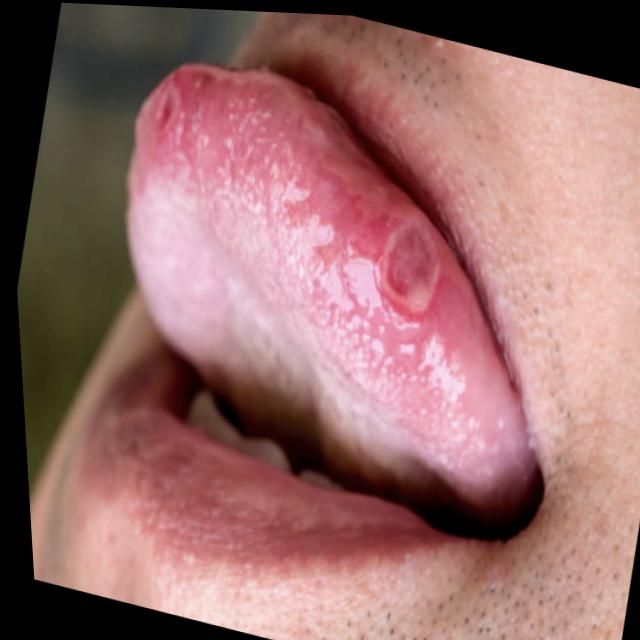ulcer: (381, 224, 438, 316)
